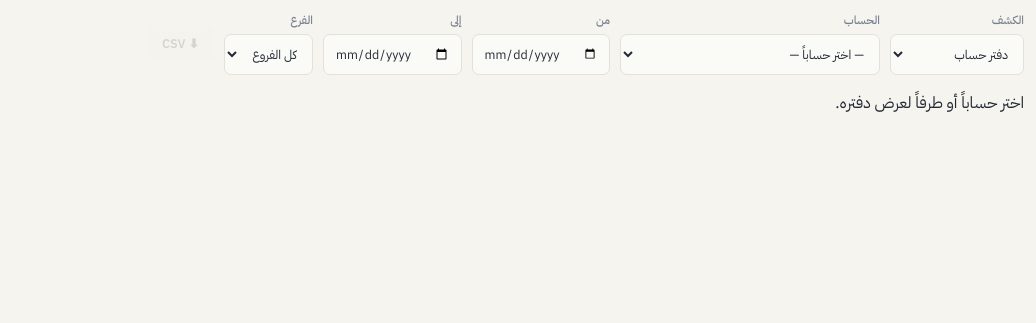
Test case: الأستاذُ العام وكشفُ الحساب › دفترُ الحساب: الافتتاحيُّ والسطورُ برصيدها الجاري والختاميُّ كما أرسلها الخادم — والمصدرُ مترجَم
Step 1. Select "1200 — الذمم المدينة" in the dropdown labelled "الحساب" → (750, 54), box [620,34,880,75]
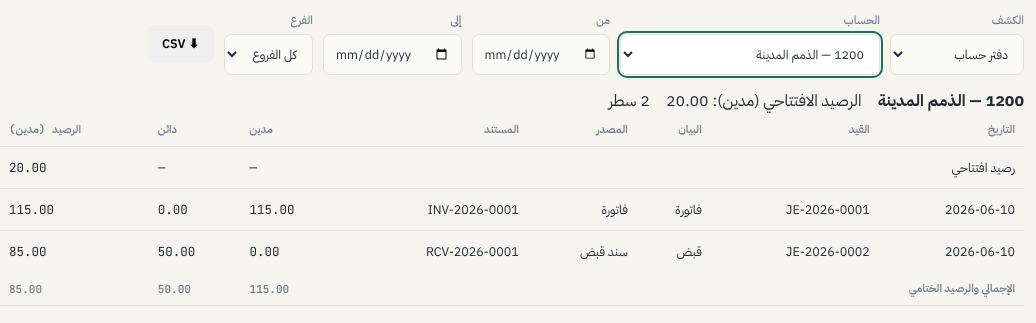
Expected: the text "INV-2026-0001" is shown, [345,188,528,230]
Expected: the text "RCV-2026-0001" is shown, [345,230,528,272]
Expected: the text "سند قبض" is shown, [528,230,637,272]
